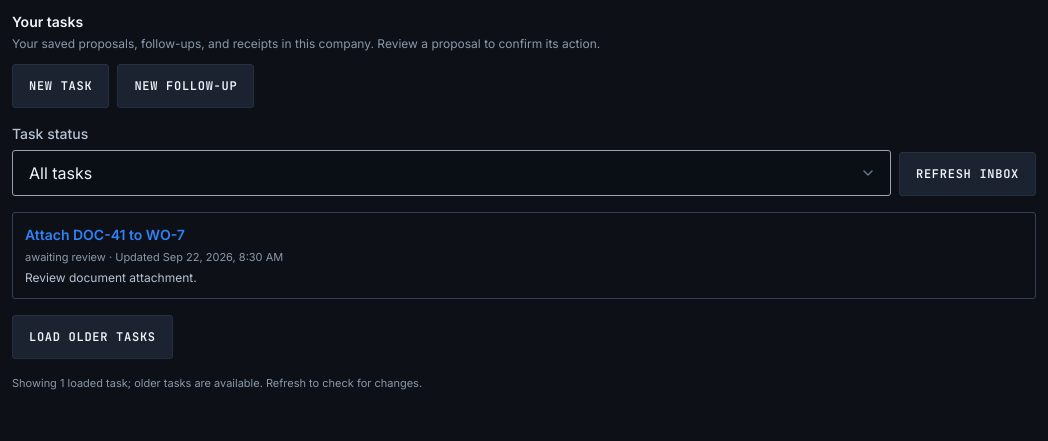
Test case: HankTaskWorkspace › uses the backend status filter and resets pagination when the filter changes
Expected: the button "Attach DOC-41 to WO-7" is shown, x1=25 y1=225 x2=1023 y2=286
Select "Completed" in the dropdown labelled "Task status" at (452, 173), box x1=12 y1=150 x2=891 y2=196
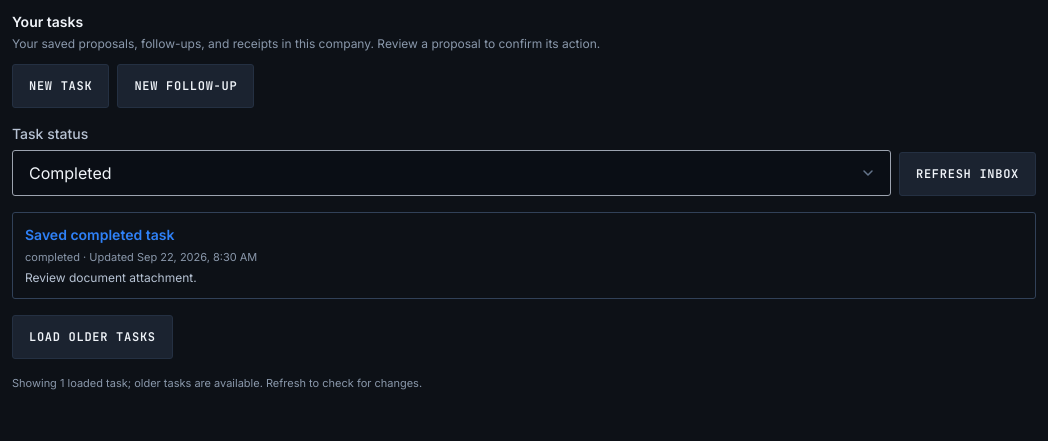
Expected: the button "Attach DOC-41 to WO-7" is gone
Expected: the button "Saved completed task" is shown, x1=25 y1=225 x2=1023 y2=286
Click the button "Load older tasks" at (92, 336), box x1=12 y1=314 x2=173 y2=358
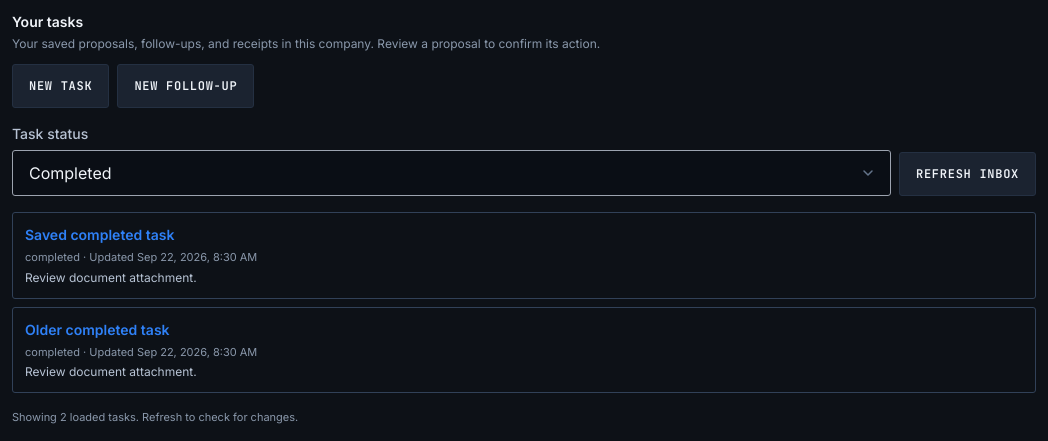
Expected: the button "Saved completed task" is shown, x1=25 y1=225 x2=1023 y2=286
Expected: the button "Older completed task" is shown, x1=25 y1=320 x2=1023 y2=380
Expected: the button "Load older tasks" is gone
